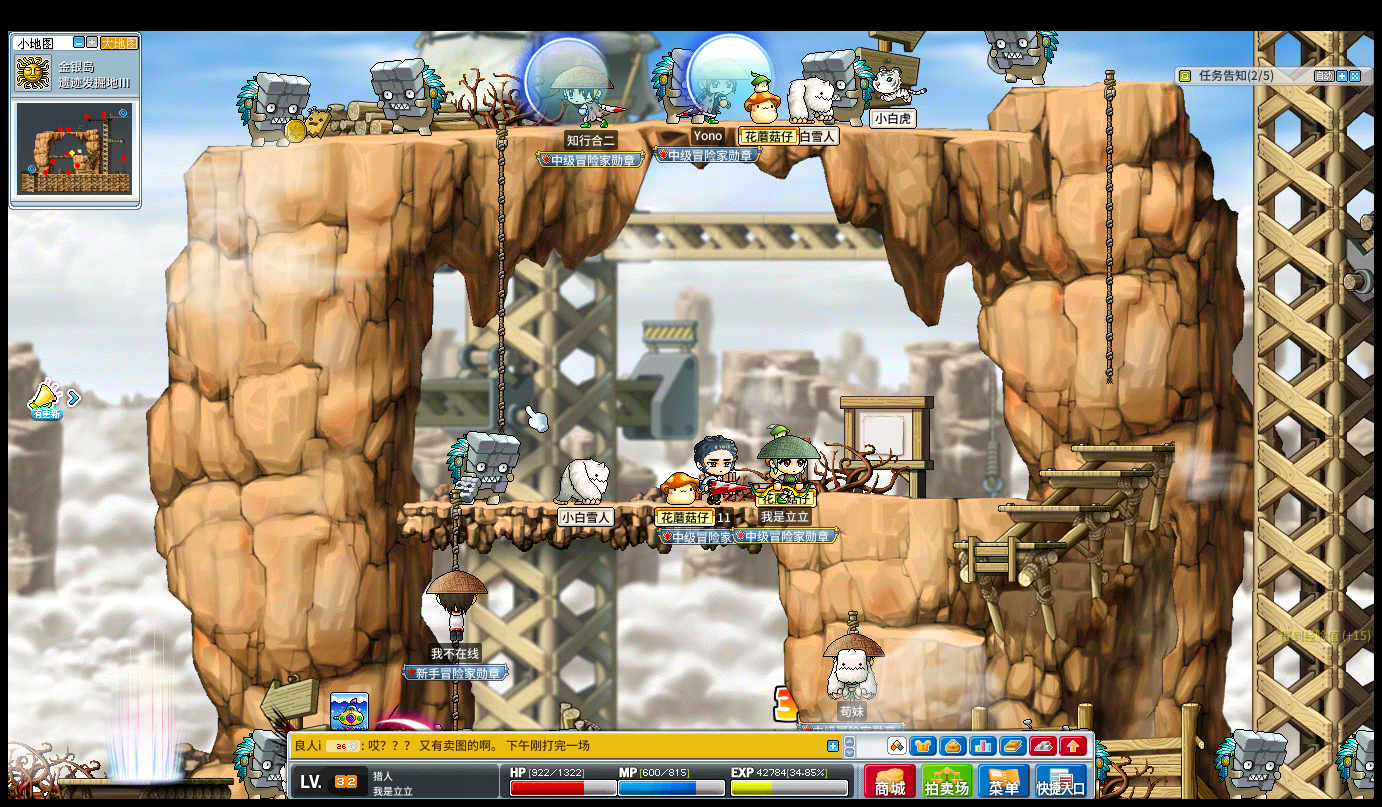floor: (208, 116, 1041, 149), (399, 498, 775, 512), (875, 625, 987, 647), (1009, 75, 1170, 90), (1012, 78, 1168, 91), (856, 493, 1041, 503), (885, 494, 1036, 504), (997, 503, 1110, 516), (1035, 464, 1153, 476), (954, 540, 1064, 550), (1068, 443, 1173, 453)
monster: (236, 70, 312, 148), (370, 56, 445, 135), (446, 430, 520, 505), (1213, 729, 1286, 794), (650, 43, 695, 123), (233, 730, 284, 794), (1334, 729, 1381, 795)
rope: (1102, 61, 1115, 395), (495, 121, 506, 431), (1103, 65, 1115, 289), (448, 494, 462, 571), (447, 677, 458, 728)
